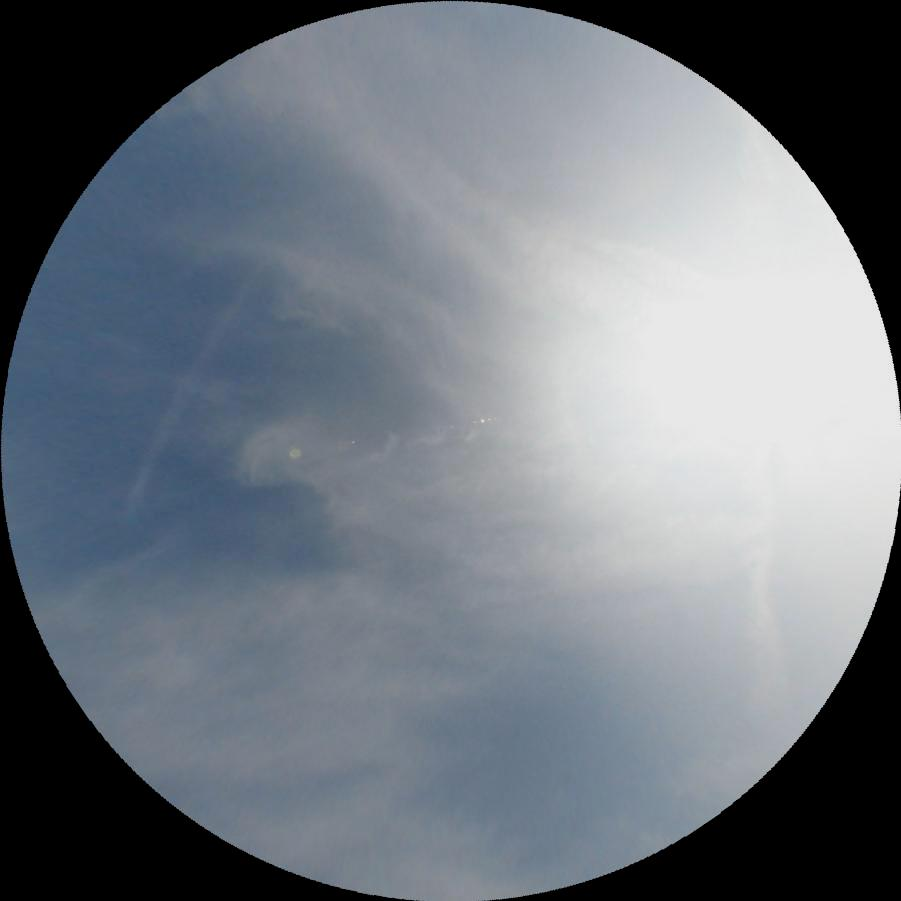contrail veryold: (111, 259, 260, 527), (733, 493, 801, 768)
sun: (561, 245, 856, 540)
